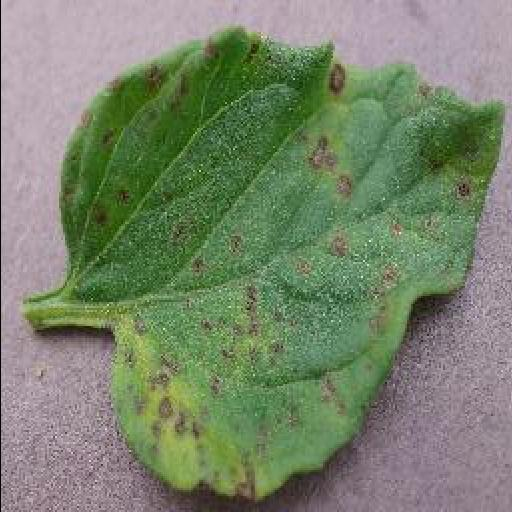disease_tomato: (58, 30, 504, 502)
